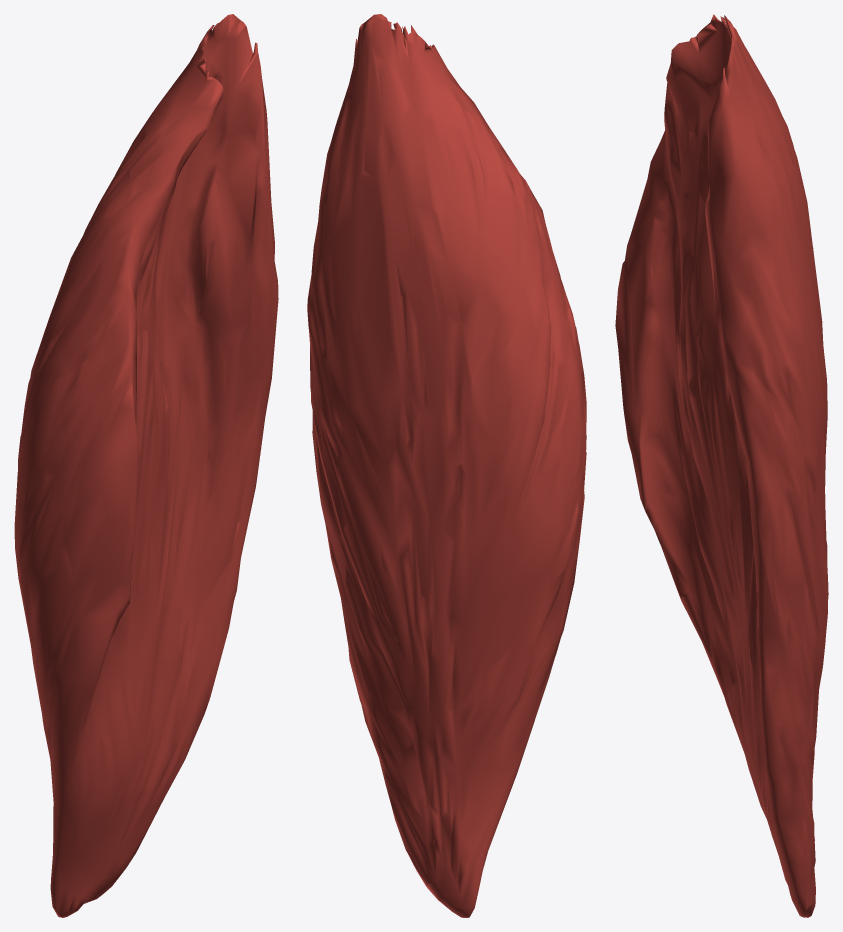
Rendered from musculos-soleus-muscle-l.glb.
3 renders of one model, left to right at view 1: azimuth 30°, elevation 25°; view 2: azimuth 150°, elevation 25°; view 3: azimuth 270°, elevation 25°, orthographic. The views are drawn at different scales.
Visible parts, largest first — view 1: Soleus muscle.l; view 2: Soleus muscle.l; view 3: Soleus muscle.l.
Boxes of the visible parts, x1,y1,x2,y2 form: Soleus muscle.l: [14, 14, 278, 917]; Soleus muscle.l: [307, 14, 586, 917]; Soleus muscle.l: [615, 14, 828, 917].
Bounding box in the file's own units: 0.0851 × 0.2758 × 0.0552.
